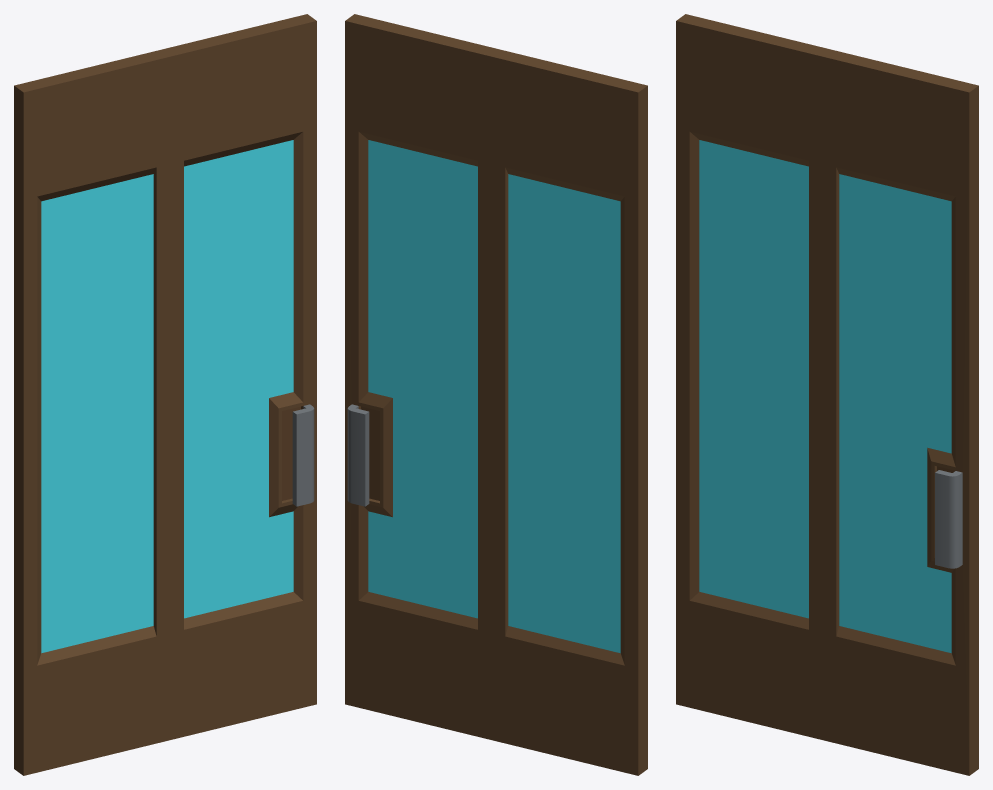
The model's file is SM_Buildings_Commercial_17_Door_L.fbx.
3 views of the same model, side by side, from view 1: azimuth 30°, elevation 25°; view 2: azimuth 150°, elevation 25°; view 3: azimuth 330°, elevation 25° (orthographic).
Visible parts, largest first — view 1: SM_Buildings_Commercial_17_Door_L; view 2: SM_Buildings_Commercial_17_Door_L; view 3: SM_Buildings_Commercial_17_Door_L.
Boxes of the visible parts, x1,y1,x2,y2 form: SM_Buildings_Commercial_17_Door_L: [14, 14, 316, 775]; SM_Buildings_Commercial_17_Door_L: [345, 14, 647, 775]; SM_Buildings_Commercial_17_Door_L: [676, 14, 978, 775].
Bounding box in the file's own units: 1.08 × 2.39 × 0.15.
